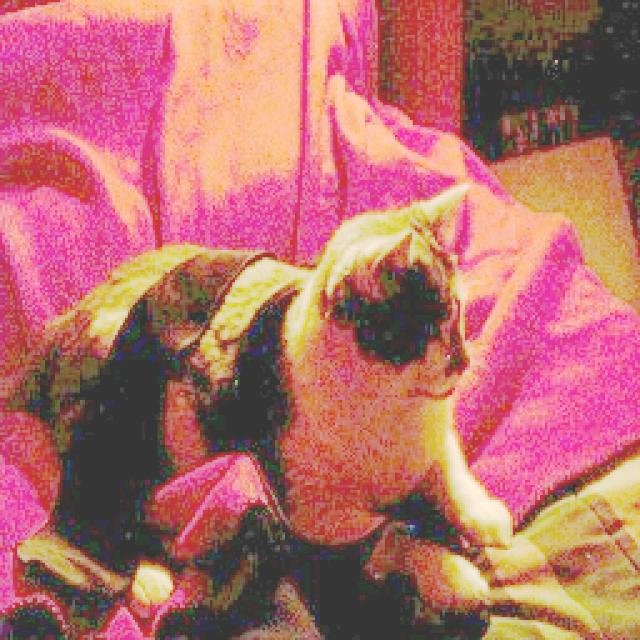cat: (26, 166, 527, 620)
